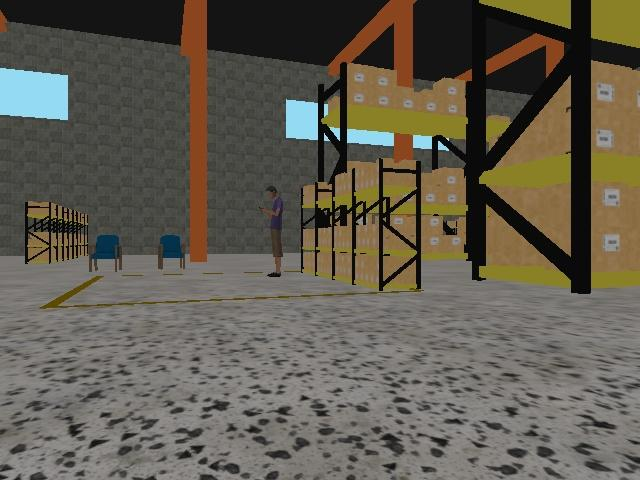chair: (88, 235, 123, 273), (158, 235, 185, 269)
person: (257, 186, 283, 277)
